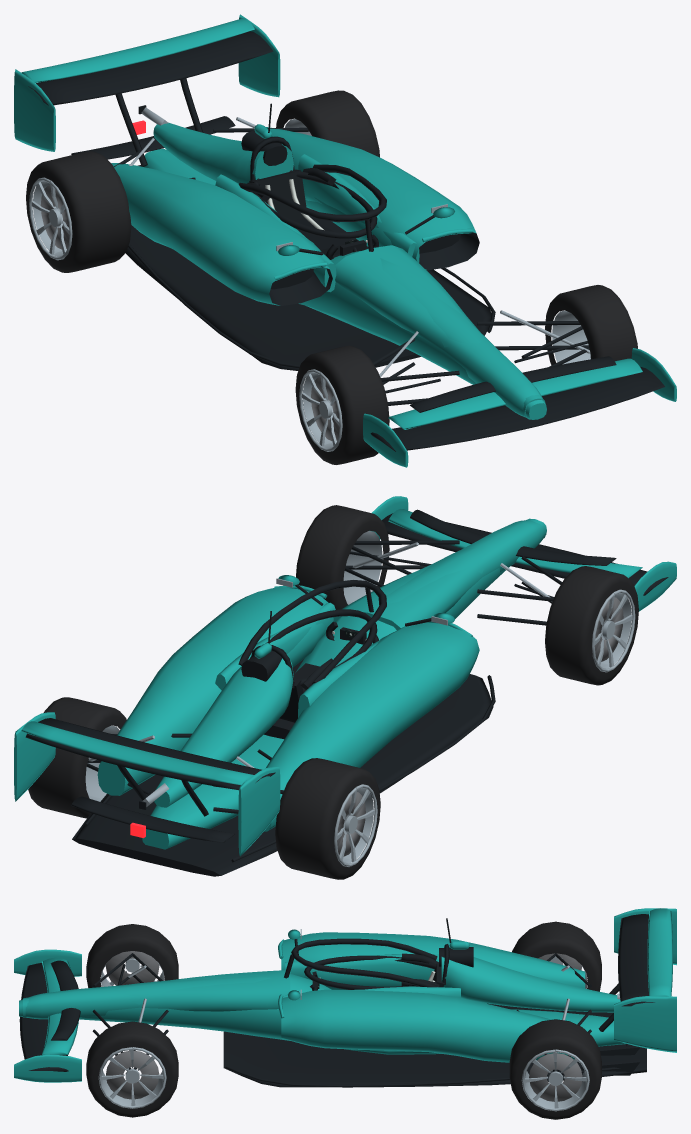
File: apex-lod1.glb
3 views of the same model, one above another, from view 1: azimuth 30°, elevation 25°; view 2: azimuth 150°, elevation 25°; view 3: azimuth 270°, elevation 25° (orthographic). The views are drawn at different scales.
Visible parts, largest first — view 1: formula-keel_merged, contoured-floor_merged, profiled-tire (×4), rim-barrel_merged (×3), ventilated-brake-rotor (×2), pushrod_merged; view 2: formula-keel_merged, contoured-floor_merged, profiled-tire (×4), rim-barrel_merged (×4), ventilated-brake-rotor (×2), pushrod_merged; view 3: formula-keel_merged, contoured-floor_merged, profiled-tire (×4), ventilated-brake-rotor (×3), rim-barrel_merged (×3), pushrod_merged.
Boxes of the visible parts, x1=… form: formula-keel_merged: x1=14, y1=14, x2=676, y2=467; contoured-floor_merged: x1=28, y1=31, x2=664, y2=451; profiled-tire (×4): x1=26, y1=90, x2=637, y2=464; rim-barrel_merged (×3): x1=29, y1=177, x2=590, y2=451; ventilated-brake-rotor (×2): x1=40, y1=185, x2=339, y2=440; pushrod_merged: x1=129, y1=107, x2=590, y2=377; formula-keel_merged: x1=14, y1=496, x2=676, y2=856; contoured-floor_merged: x1=25, y1=509, x2=668, y2=876; profiled-tire (×4): x1=28, y1=505, x2=638, y2=879; rim-barrel_merged (×4): x1=85, y1=531, x2=635, y2=866; ventilated-brake-rotor (×2): x1=337, y1=597, x2=623, y2=856; pushrod_merged: x1=88, y1=542, x2=552, y2=806; formula-keel_merged: x1=14, y1=908, x2=676, y2=1082; contoured-floor_merged: x1=19, y1=914, x2=654, y2=1087; profiled-tire (×4): x1=86, y1=921, x2=601, y2=1119; ventilated-brake-rotor (×3): x1=106, y1=951, x2=582, y2=1101; rim-barrel_merged (×3): x1=98, y1=956, x2=589, y2=1111; pushrod_merged: x1=127, y1=929, x2=620, y2=1071.
Size of the model in its own units: 2.22 by 1.24 by 5.17.
8 materials, 1 textured.
